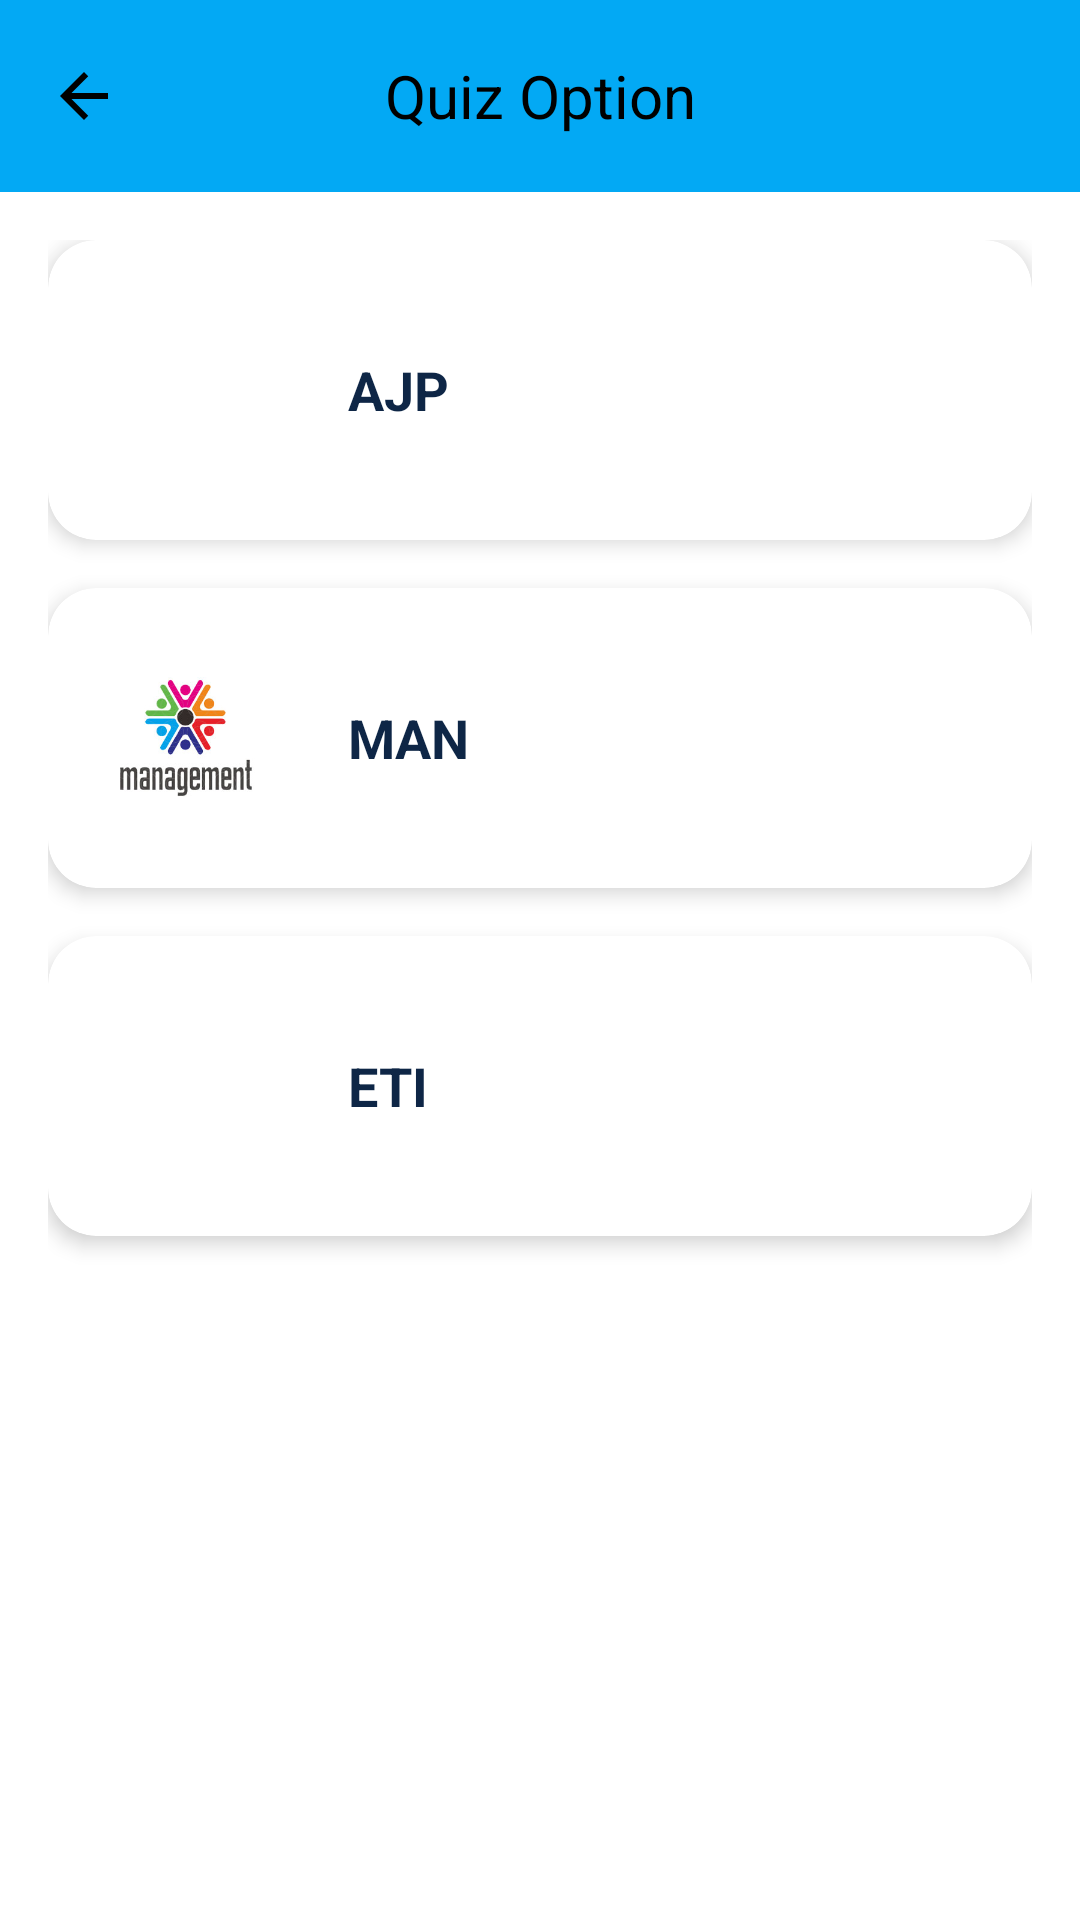

Screen size 1080x1920. Icon name, then its center in pixels as (x=x, y=y):
Back: (x=84, y=96)
